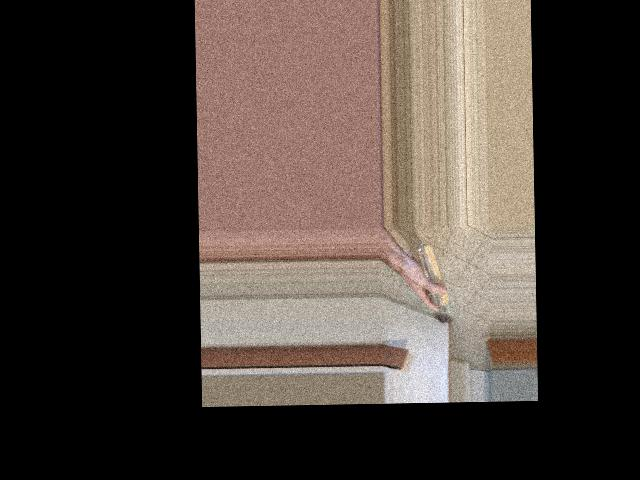cheese: (400, 250, 457, 316)
